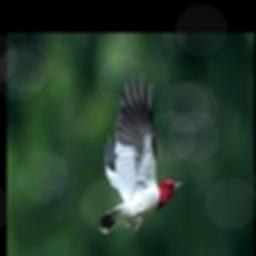Woodpecker: (95, 72, 185, 234)
